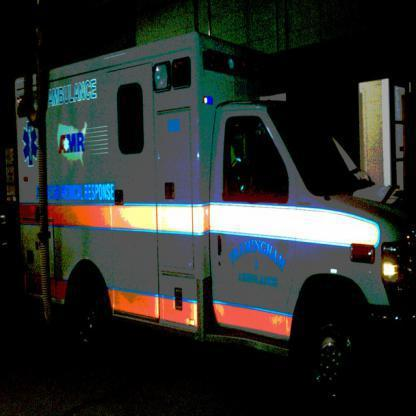Ambulance - v1 Ambulance last generate: (15, 27, 415, 408)
